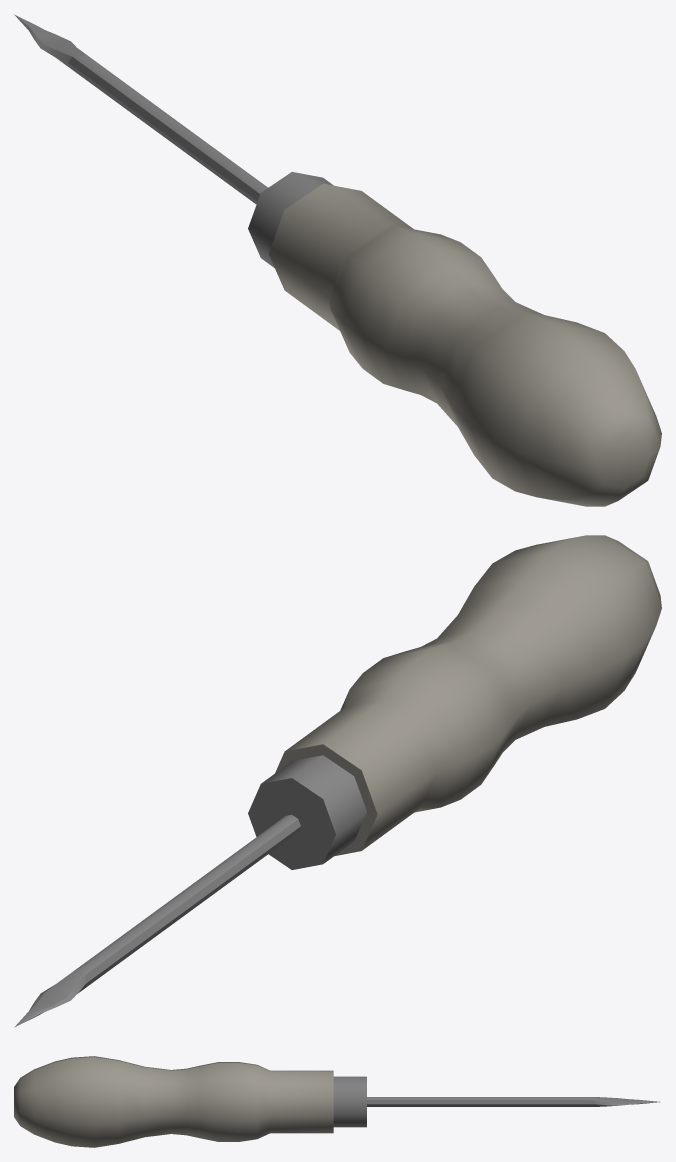
File: tool-3.fbx
The picture shows the model from 3 angles, top to bottom: view 1: azimuth 30°, elevation 25°; view 2: azimuth 150°, elevation 25°; view 3: azimuth 270°, elevation 25°; orthographic projection. The views are drawn at different scales.
Parts seen in each view (by area): view 1: tool-3; view 2: tool-3; view 3: tool-3.
Part boxes in pixels (x1=…): tool-3: x1=14, y1=14, x2=661, y2=506; tool-3: x1=14, y1=535, x2=661, y2=1027; tool-3: x1=14, y1=1056, x2=659, y2=1147.
Bounding box in the file's own units: 3.52 × 3.52 × 23.38.
2 materials, 2 textured.
